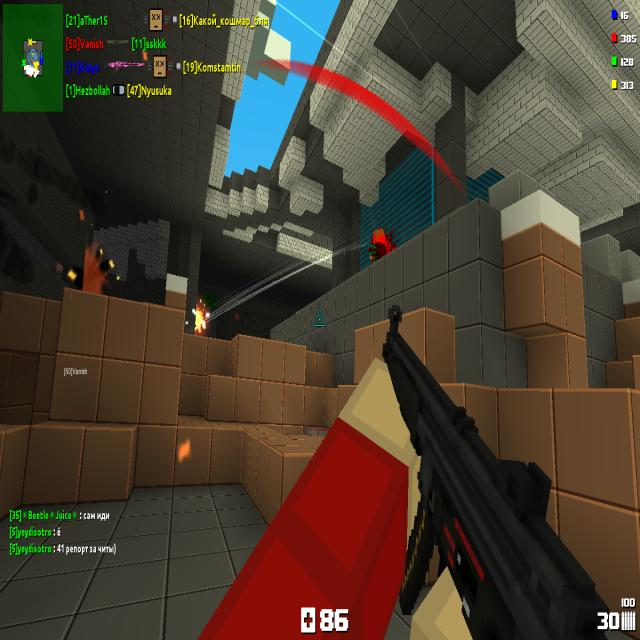enemy: (371, 228, 387, 262)
